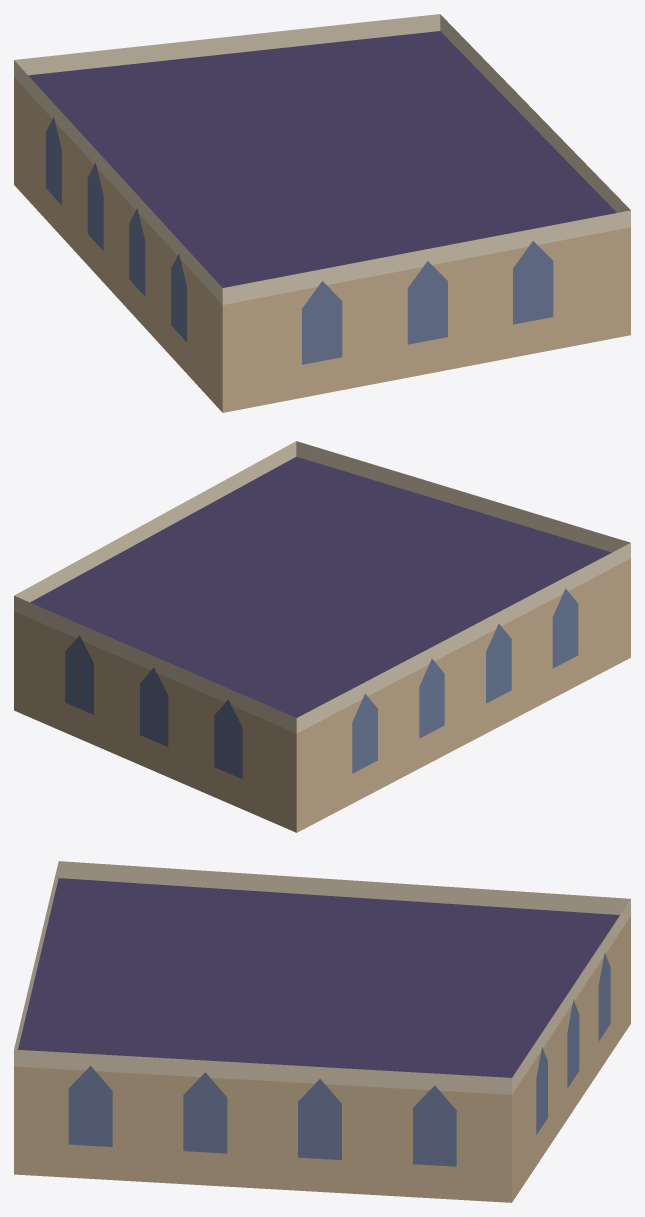
File: b-104-day.glb
The picture shows the model from 3 angles, top to bottom: view 1: azimuth 30°, elevation 25°; view 2: azimuth 150°, elevation 25°; view 3: azimuth 270°, elevation 25°; orthographic projection. The views are drawn at different scales.
Parts seen in each view (by area): view 1: campus/b-104-day-0; view 2: campus/b-104-day-0; view 3: campus/b-104-day-0.
Boxes of the visible parts, <box> form: campus/b-104-day-0: <box>14,14,630,412</box>; campus/b-104-day-0: <box>14,441,630,832</box>; campus/b-104-day-0: <box>14,861,630,1202</box>.
Size of the model in its own units: 15.07 by 4.05 by 18.12.
